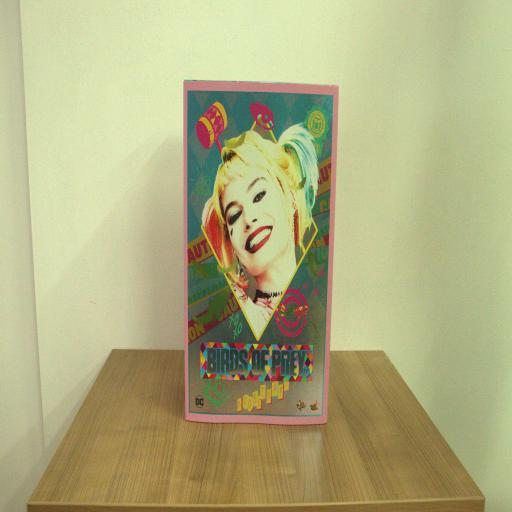Harley: (184, 78, 339, 428)
